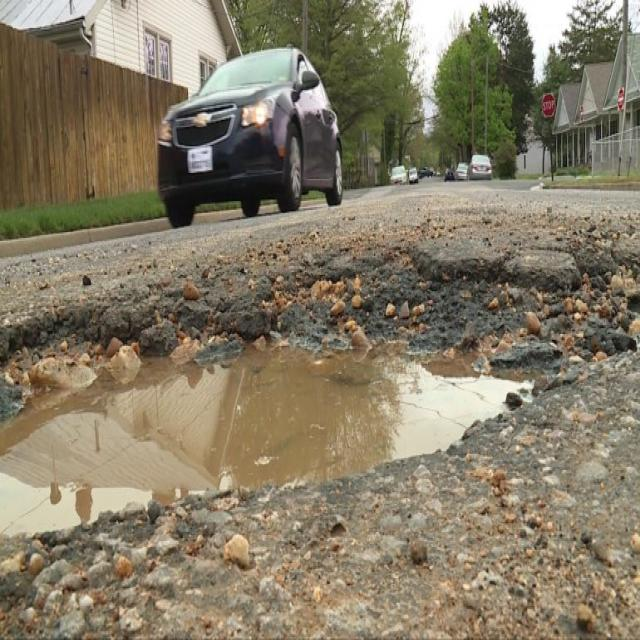pothole1: (0, 312, 565, 585)
